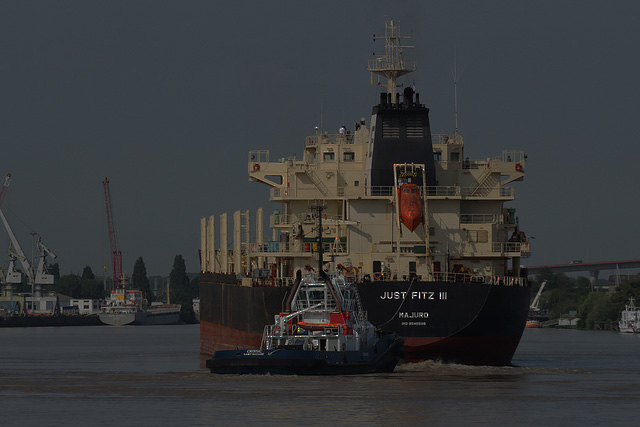bulk carrier: (197, 3, 527, 365)
tug_boat: (205, 268, 409, 375)
